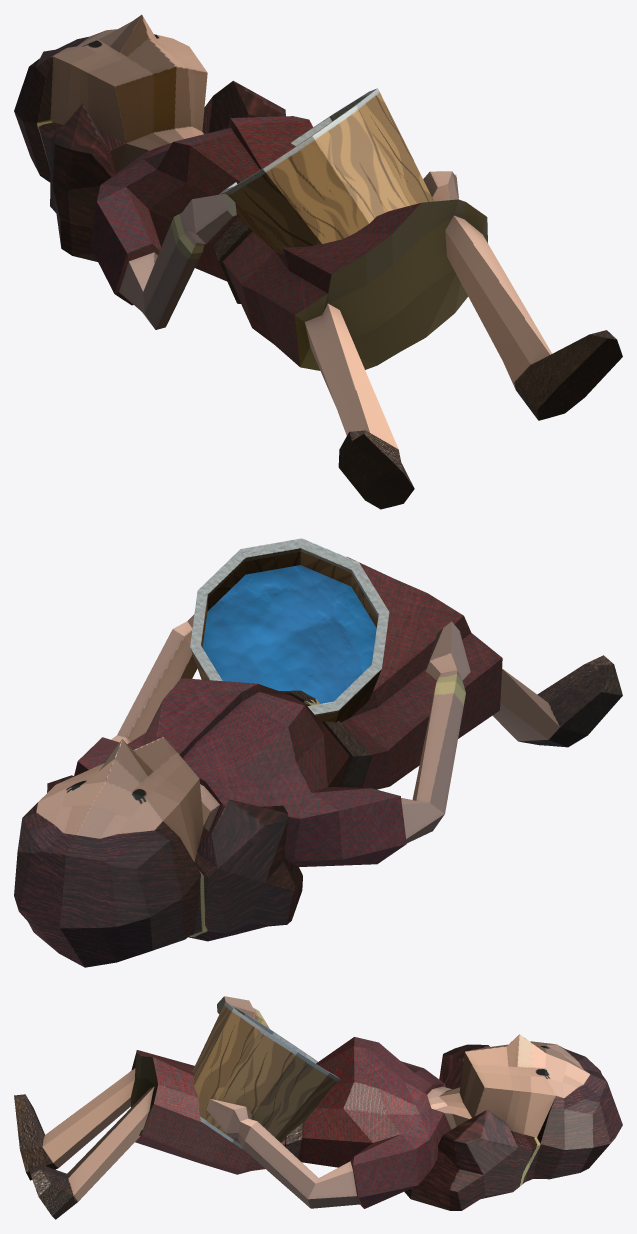
Rendered from Walk_Aldeana_14.obj.
3 renders of one model, top to bottom at view 1: azimuth 30°, elevation 25°; view 2: azimuth 150°, elevation 25°; view 3: azimuth 270°, elevation 25°, orthographic. The views are drawn at different scales.
Visible parts, largest first — view 1: Aldeana.001; view 2: Aldeana.001; view 3: Aldeana.001.
Part boxes in pixels (<box>): Aldeana.001: <box>14,14,622,509</box>; Aldeana.001: <box>14,538,622,967</box>; Aldeana.001: <box>14,996,622,1219</box>.
Size of the model in its own units: 1.02 by 0.8682 by 2.34.
